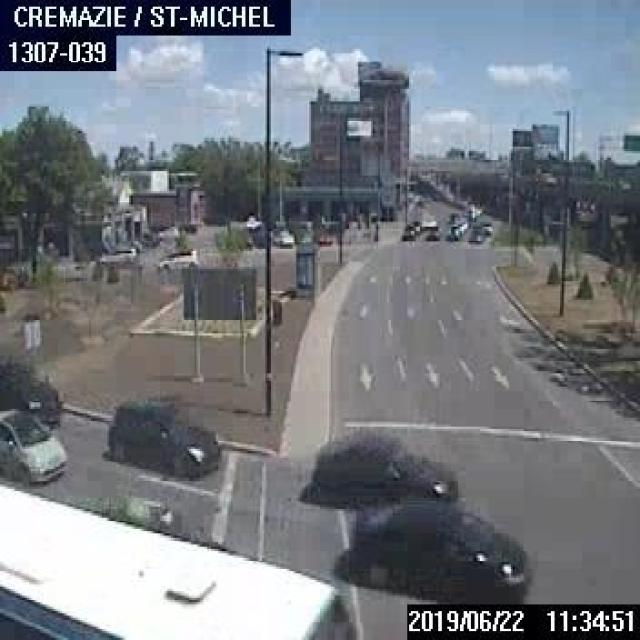bus: (0, 482, 355, 638)
vehicle: (349, 495, 529, 600), (309, 431, 458, 507), (105, 400, 220, 478), (0, 406, 65, 484), (0, 359, 62, 425), (154, 249, 197, 269), (99, 245, 135, 263), (156, 224, 178, 237), (466, 227, 482, 242), (425, 224, 440, 239), (444, 223, 458, 237), (400, 223, 413, 237), (480, 220, 492, 233), (410, 218, 420, 232)
